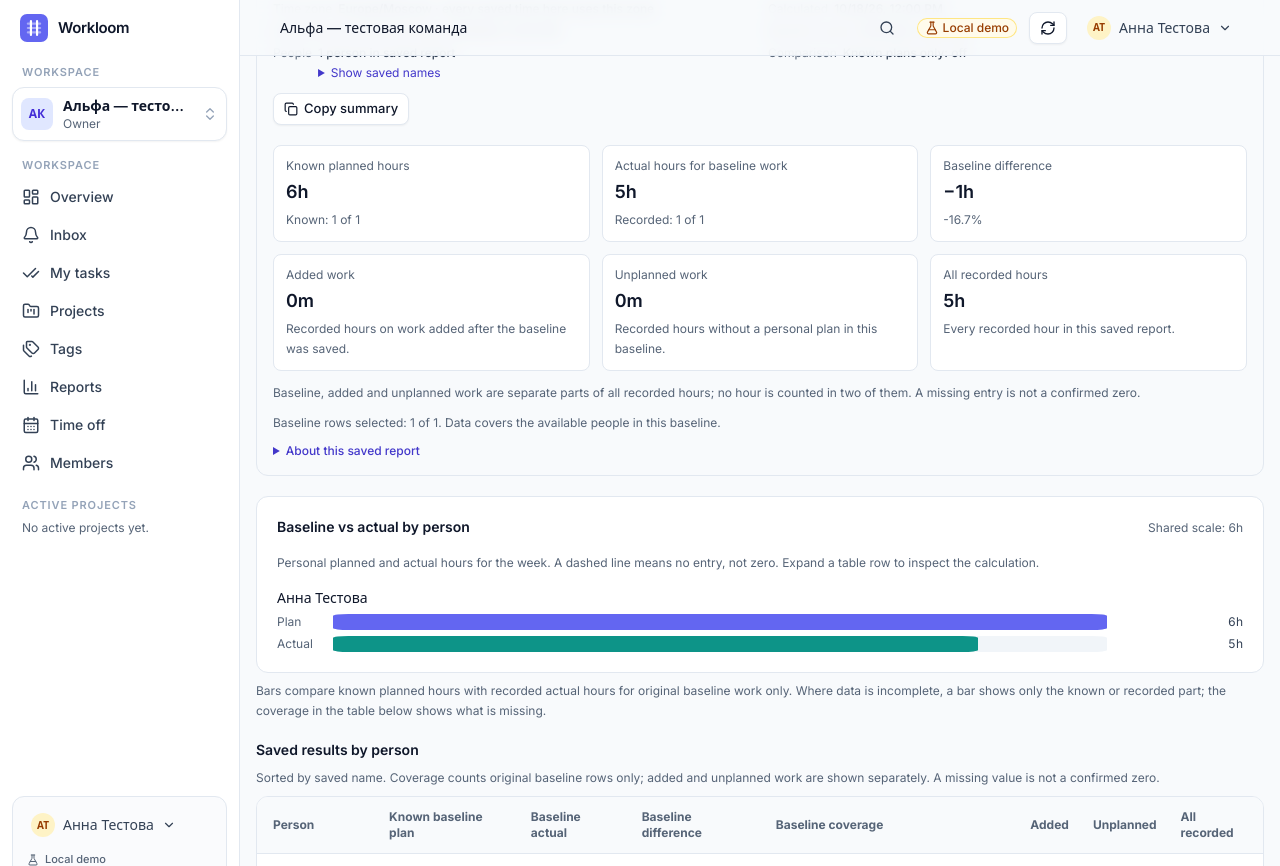
Test case: latest saved weekly report › always shows an explicitly selected run, and returns to the newest only by an explicit choice
(page scrolled)
Click the heading "About this saved report" at (346, 450), box [273,442,420,458]
(page scrolled)
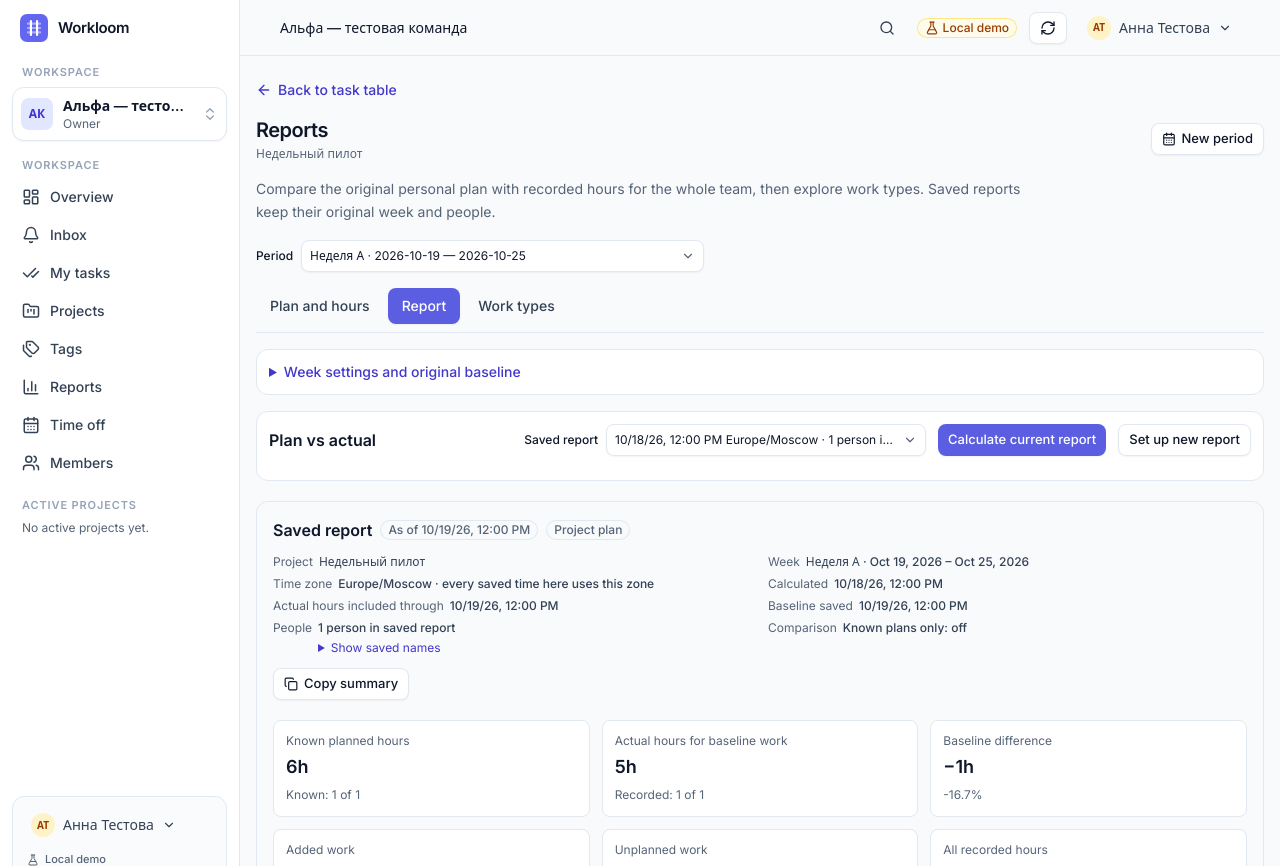
Expected: the text "Latest project report" is not shown
Click the dropdown labelled "saved report" at (766, 440), box [606,424,926,456]
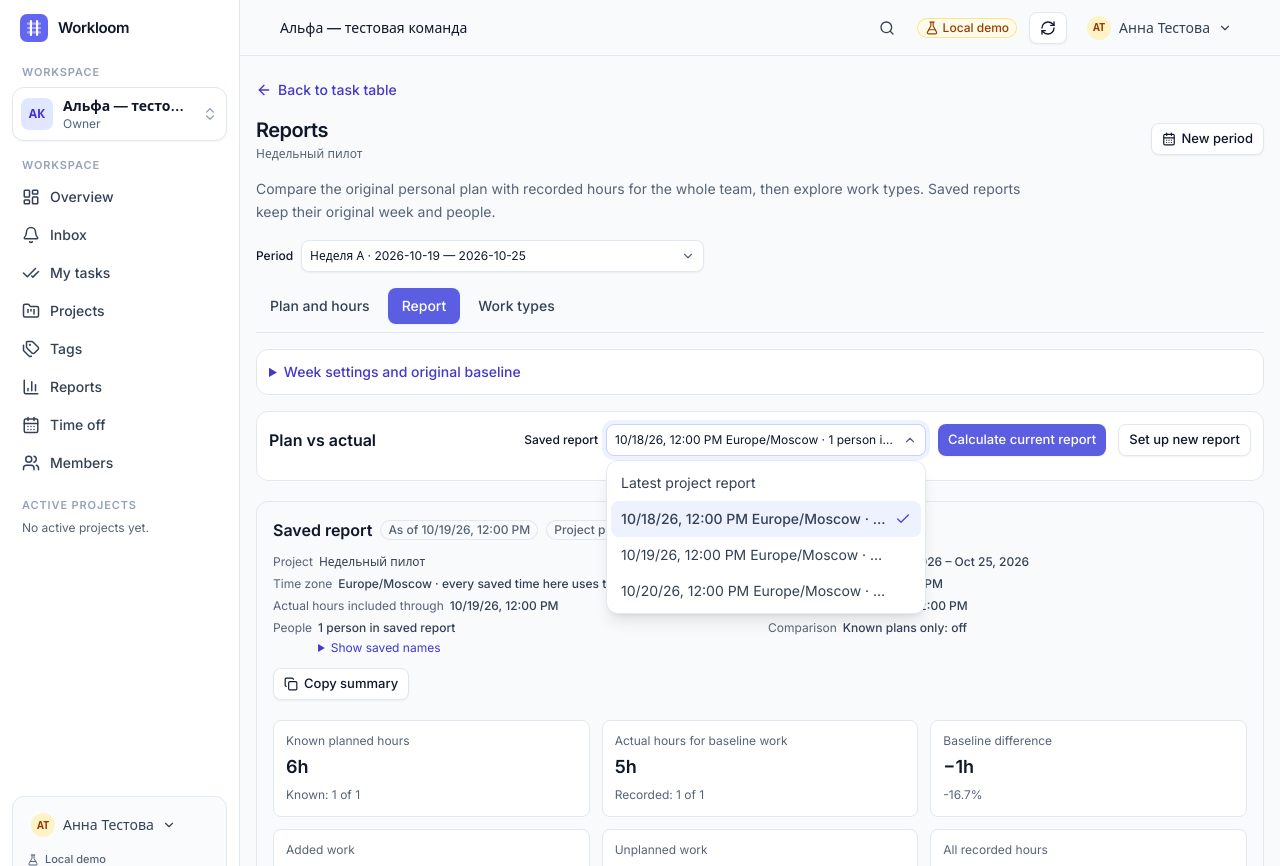
Click the option "Latest project report" at (688, 482), box [621,474,756,490]
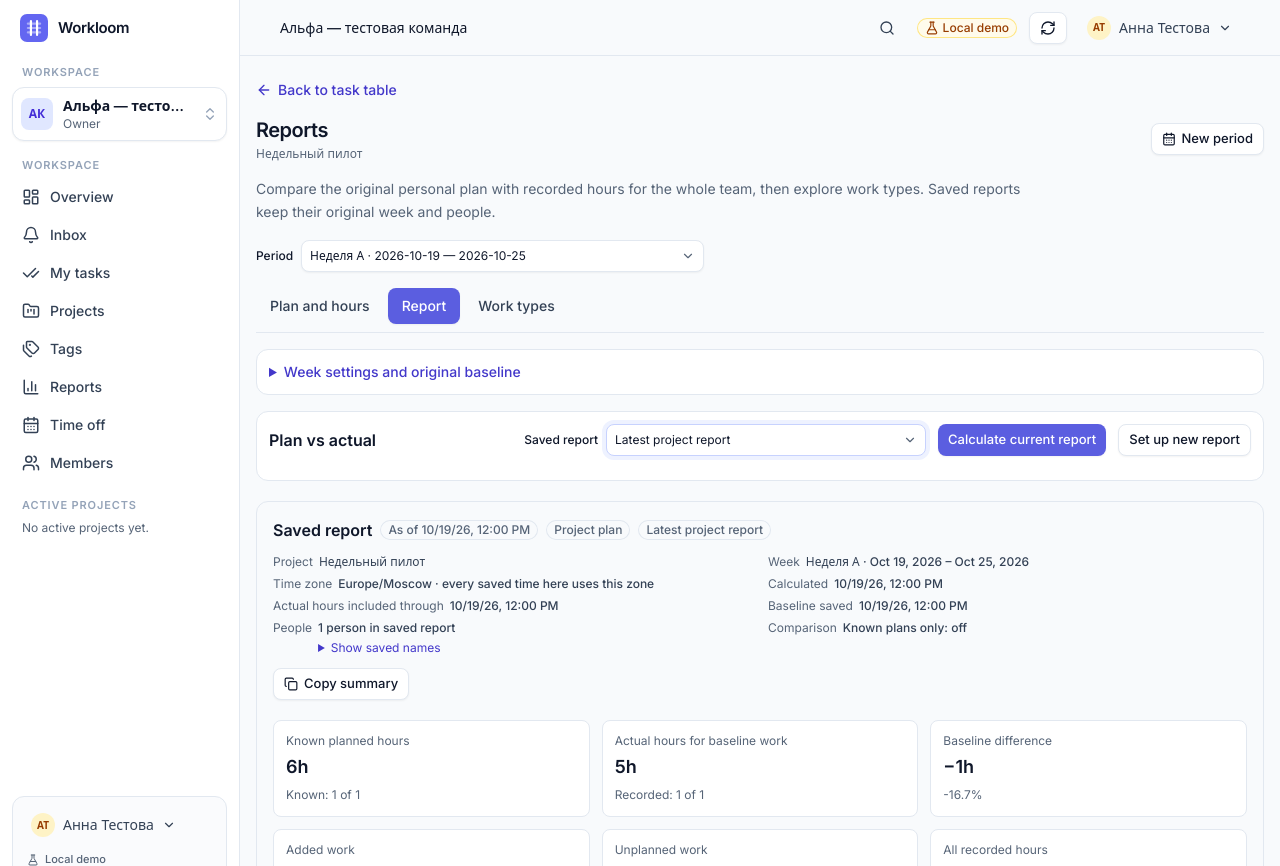
Expected: the text "Latest project report" next to "Project plan" is shown, [646,522,763,536]
